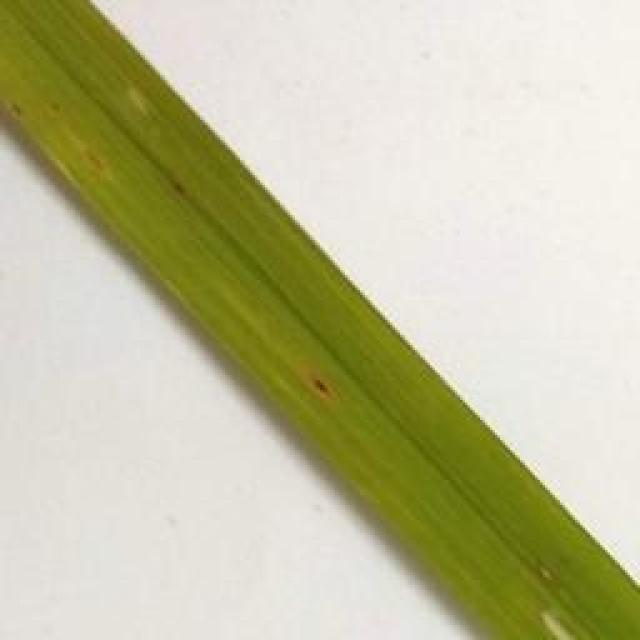Bacterial_Blight: (520, 555, 590, 640)
Brown_Spot: (302, 370, 354, 406), (84, 150, 116, 177), (3, 95, 29, 125), (168, 180, 200, 202), (49, 90, 73, 117)
